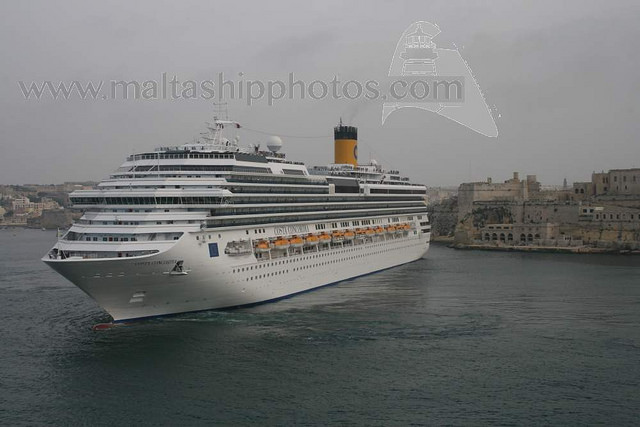cruise_ship: (40, 115, 443, 319)
